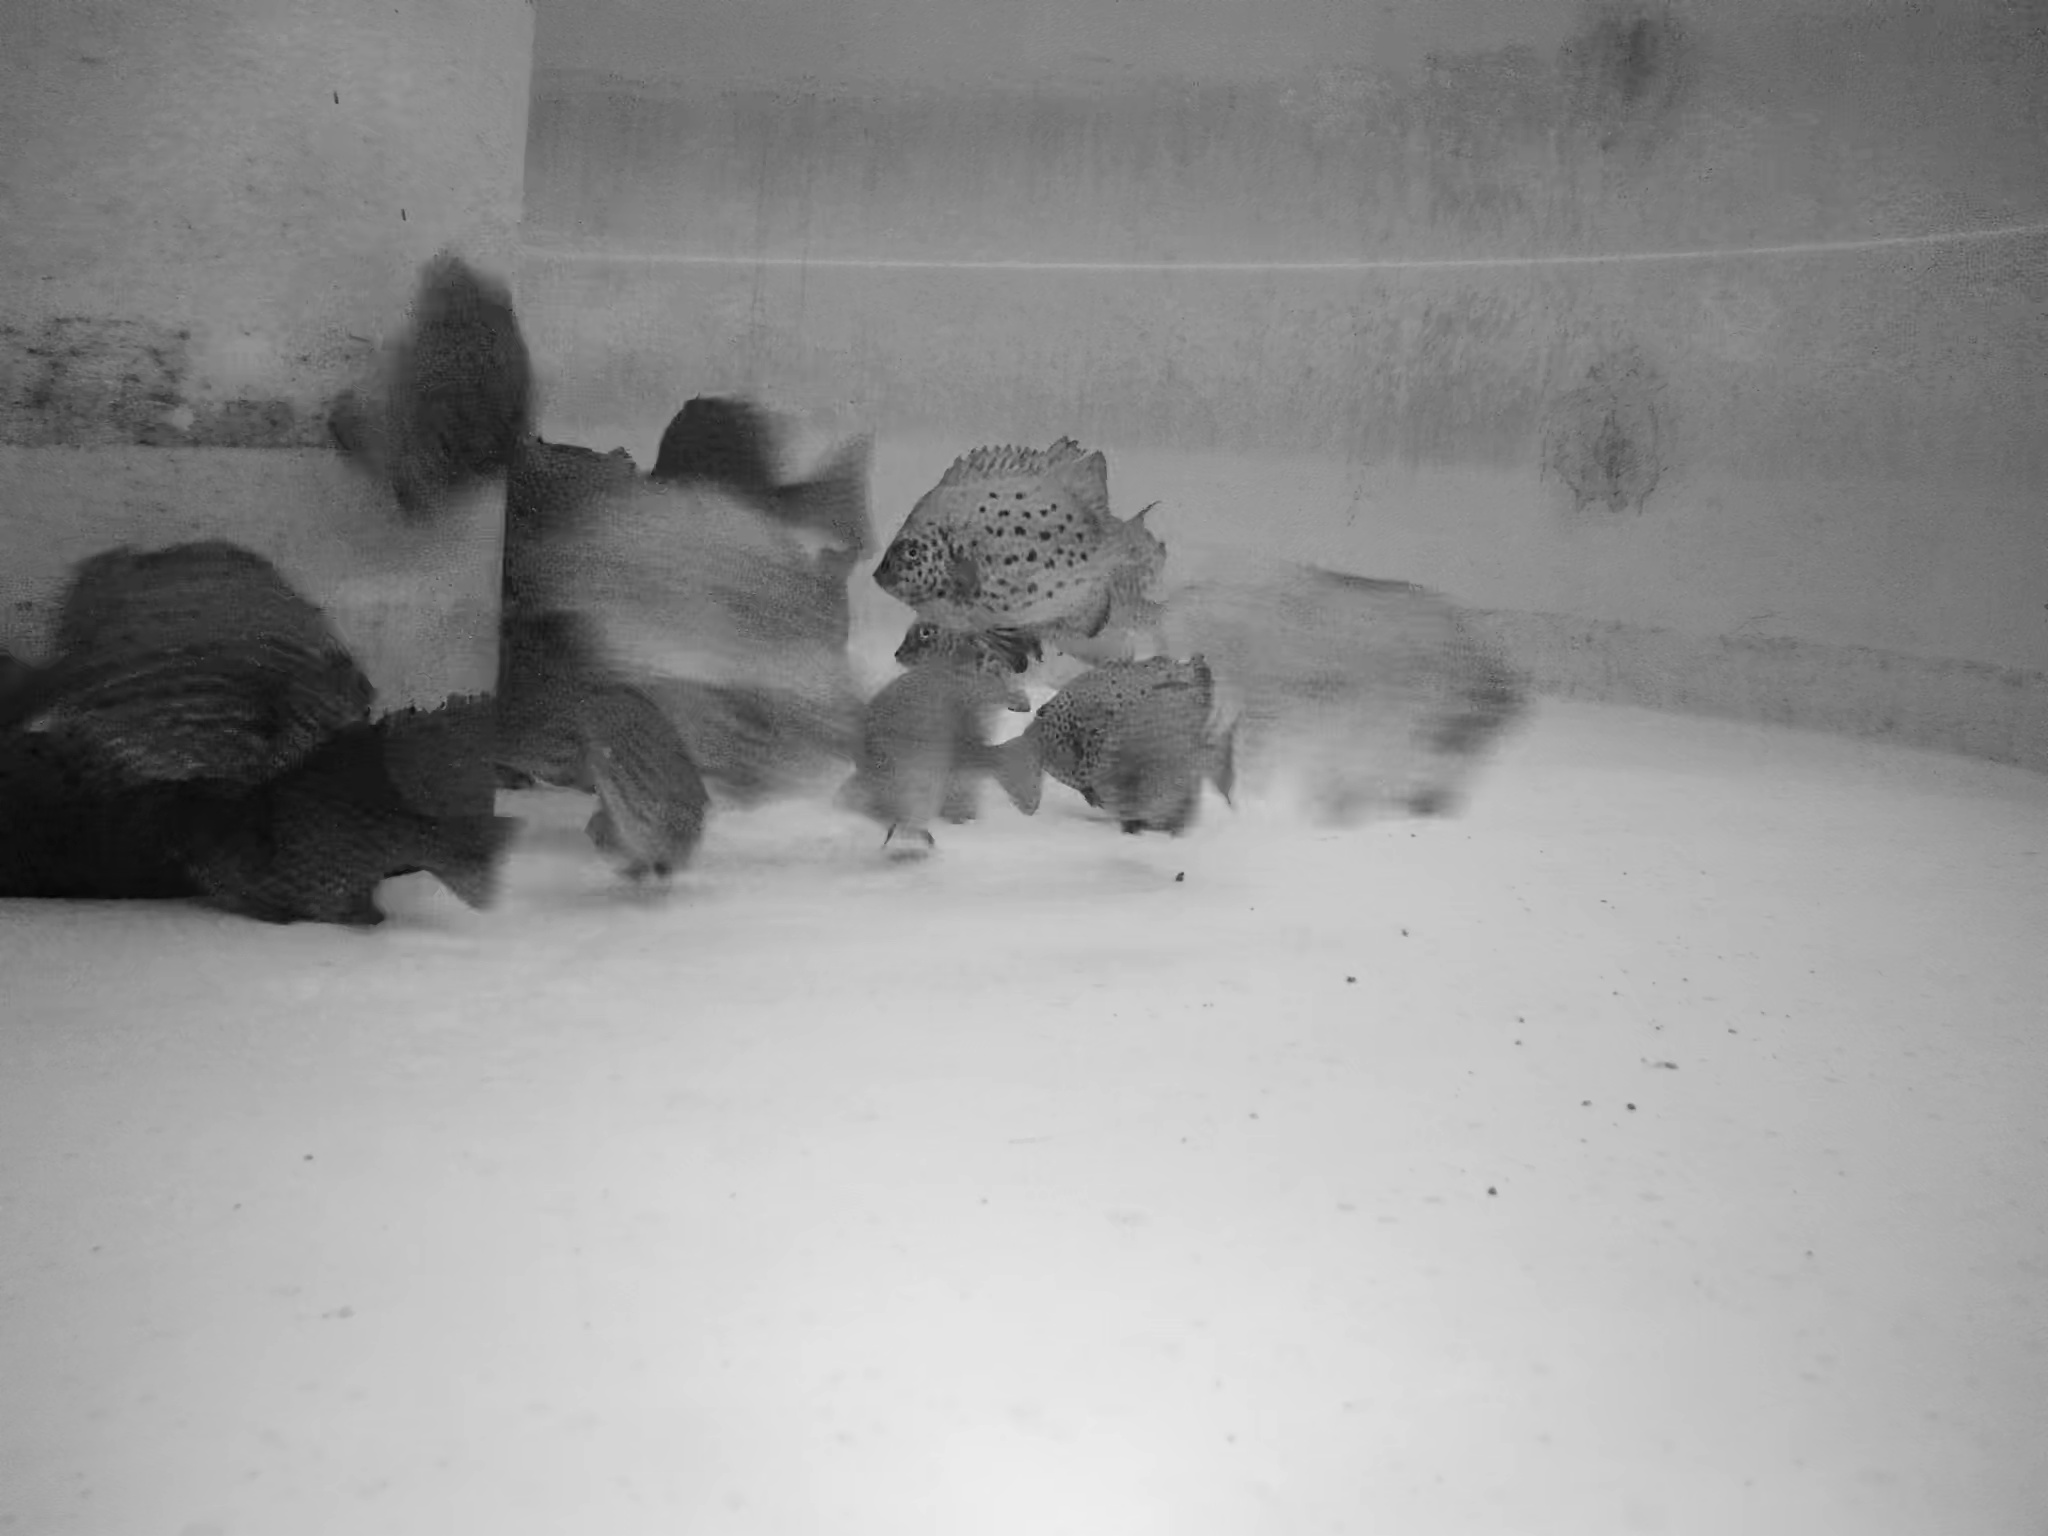fish: (32, 545, 377, 786), (1237, 565, 1521, 834), (513, 500, 853, 686), (329, 257, 534, 516), (871, 442, 1171, 613), (1018, 666, 1238, 833), (353, 710, 531, 913), (653, 397, 871, 550), (869, 676, 1042, 842), (577, 681, 703, 874), (685, 679, 866, 805), (895, 620, 1045, 695)
